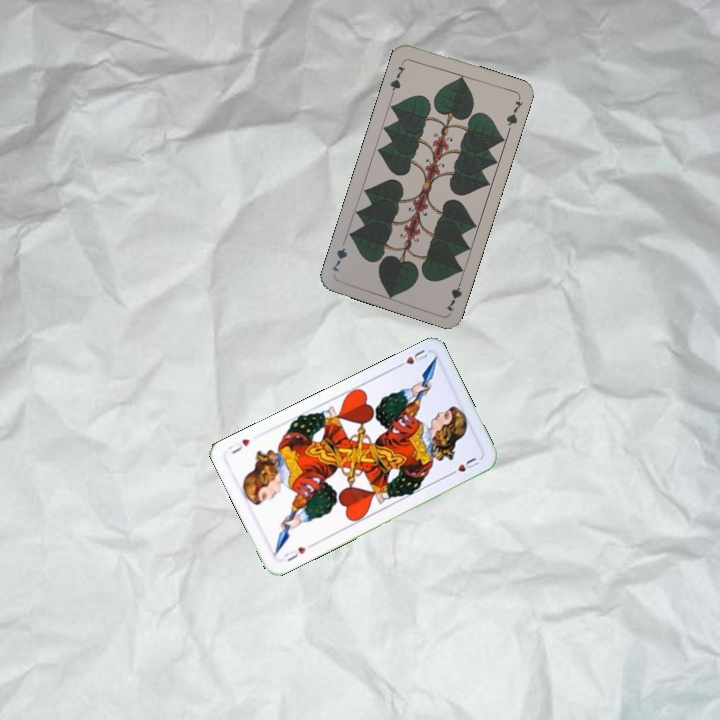G7: (442, 274, 465, 314), (386, 57, 408, 96)
HU: (392, 345, 431, 371), (280, 543, 308, 564)
